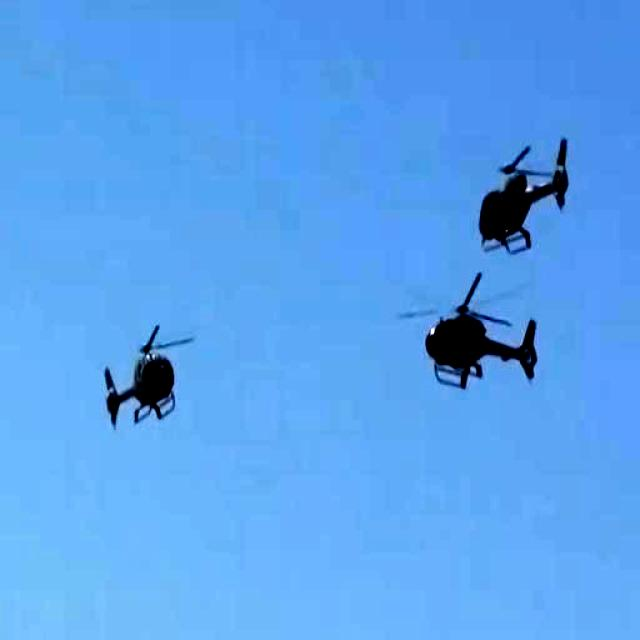drone: (410, 240, 564, 421), (84, 288, 200, 450), (458, 122, 592, 244)
